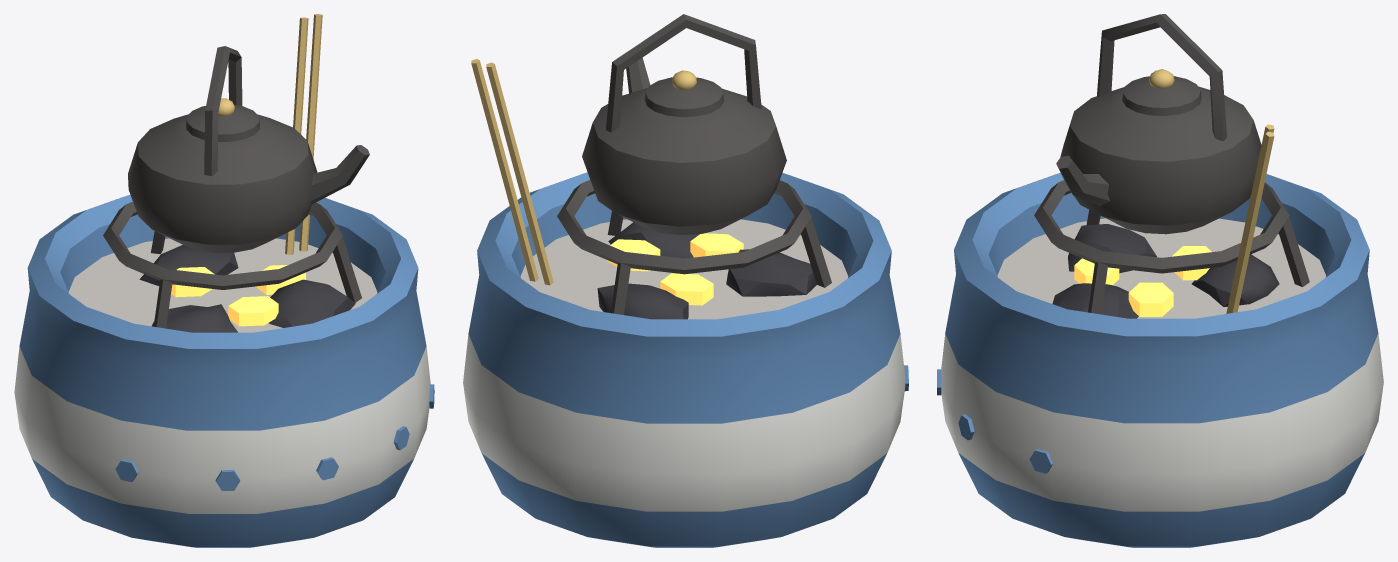
The model's file is furn_hibachi.glb.
3 views of the same model, side by side, from view 1: azimuth 30°, elevation 25°; view 2: azimuth 150°, elevation 25°; view 3: azimuth 270°, elevation 25° (orthographic). The views are drawn at different scales.
Visible parts, largest first — view 1: furn_hibachi_body; view 2: furn_hibachi_body; view 3: furn_hibachi_body.
Part boxes in pixels (x1,y1,x2,y2): furn_hibachi_body: (14, 14, 434, 547); furn_hibachi_body: (463, 14, 908, 547); furn_hibachi_body: (937, 14, 1383, 547).
Bounding box in the file's own units: 0.4038 × 0.4757 × 0.4125.
